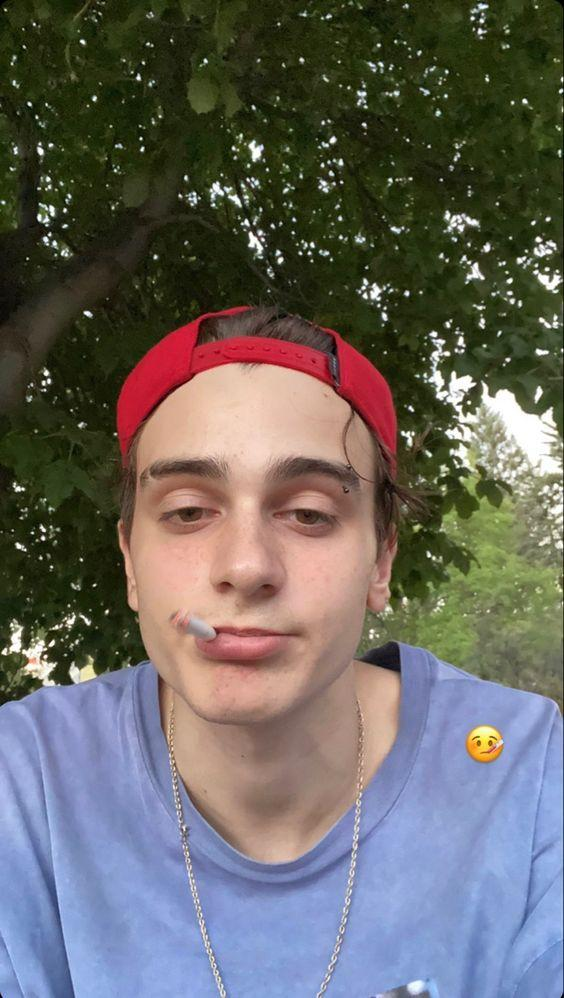cigarette: (168, 609, 218, 642)
